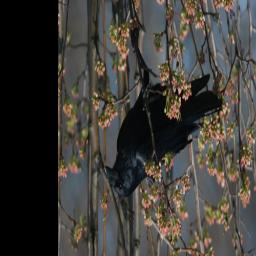Crow: (100, 31, 220, 202)
